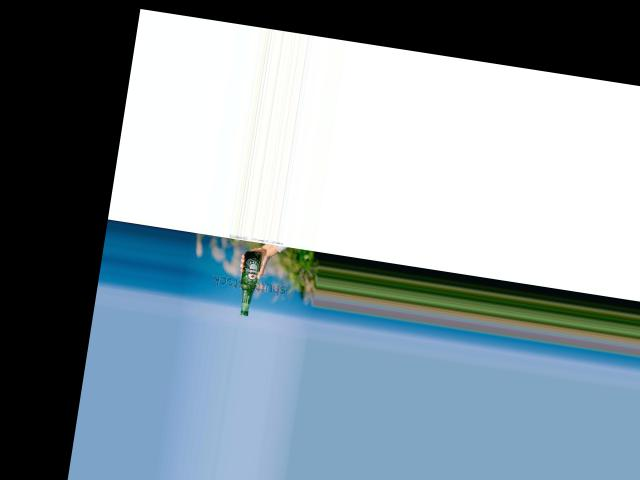beer: (235, 250, 262, 316)
